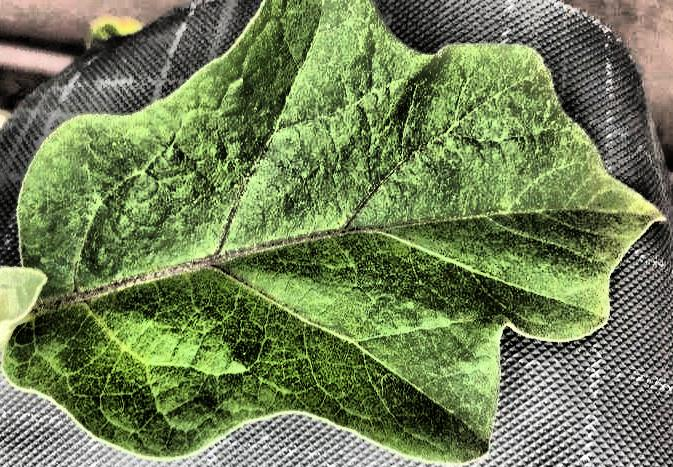HEALTHY: (0, 1, 673, 467)
